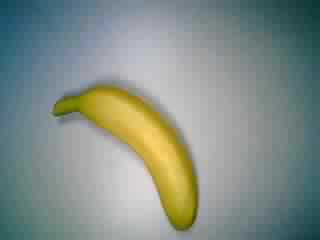banana: (50, 85, 204, 233)
